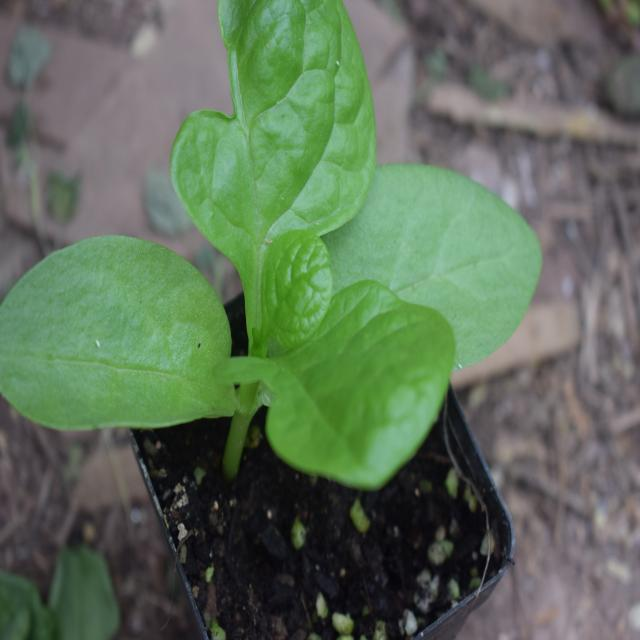Ceylon spinach: (9, 0, 546, 487)
